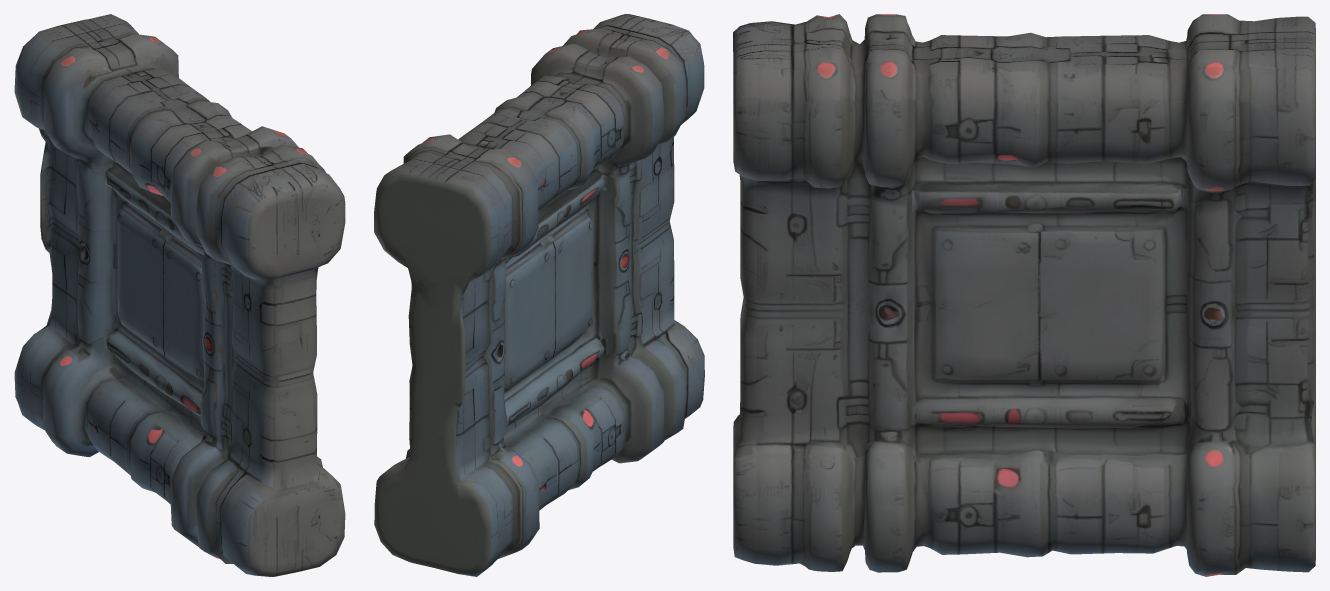
Rendered from SciFiWall.fbx.
The picture shows the model from 3 angles, left to right: view 1: azimuth 30°, elevation 25°; view 2: azimuth 150°, elevation 25°; view 3: azimuth 270°, elevation 25°; orthographic projection. The views are drawn at different scales.
Parts seen in each view (by area): view 1: tripo_node_d25681e3; view 2: tripo_node_d25681e3; view 3: tripo_node_d25681e3.
Boxes of the visible parts, left/top/right/bottom form: tripo_node_d25681e3: left=14, top=14, right=345, bottom=576; tripo_node_d25681e3: left=374, top=14, right=704, bottom=576; tripo_node_d25681e3: left=733, top=14, right=1315, bottom=576.
Size of the model in its own units: 0.3207 by 0.9878 by 1.
Materials: 1 (1 with a texture image).
